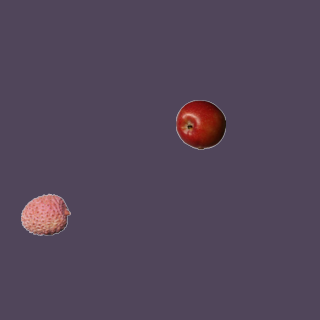Apple Braeburn: (175, 99, 225, 149)
Lychee: (20, 189, 70, 239)
